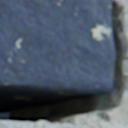brick: (0, 0, 113, 92)
crack: (0, 0, 127, 126)
